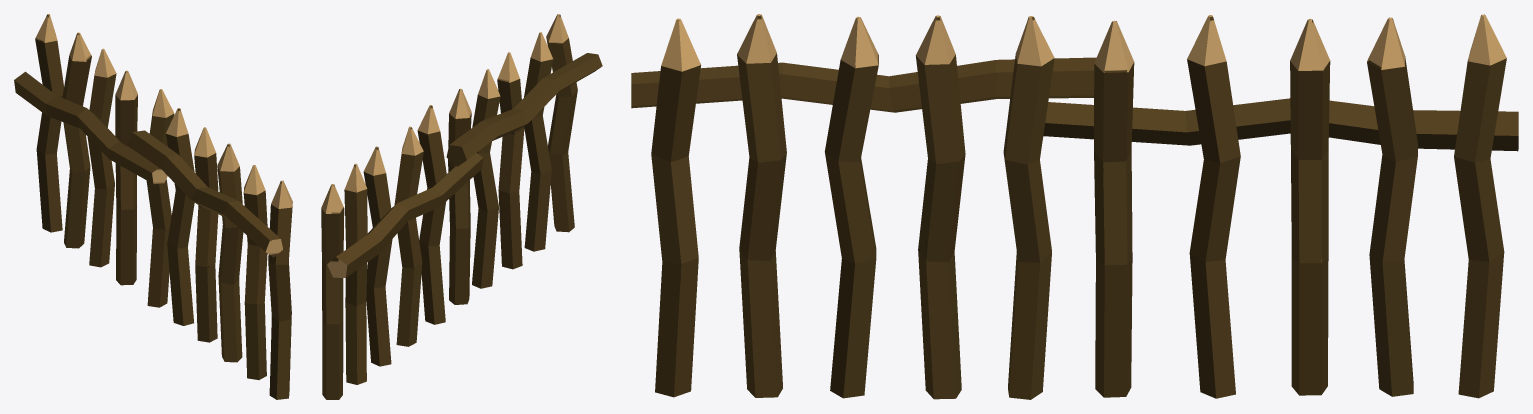
The model's file is Fence_Cheap.fbx.
3 views of the same model, side by side, from view 1: azimuth 30°, elevation 25°; view 2: azimuth 150°, elevation 25°; view 3: azimuth 270°, elevation 25° (orthographic). The views are drawn at different scales.
Visible parts, largest first — view 1: Cylinder.001; view 2: Cylinder.001; view 3: Cylinder.001.
Part boxes in pixels (x1,y1,x2,y2): Cylinder.001: (14, 14, 292, 399); Cylinder.001: (321, 14, 602, 399); Cylinder.001: (631, 14, 1518, 399).
Size of the model in its own units: 26.72 by 120 by 259.
1 material, 1 textured.
